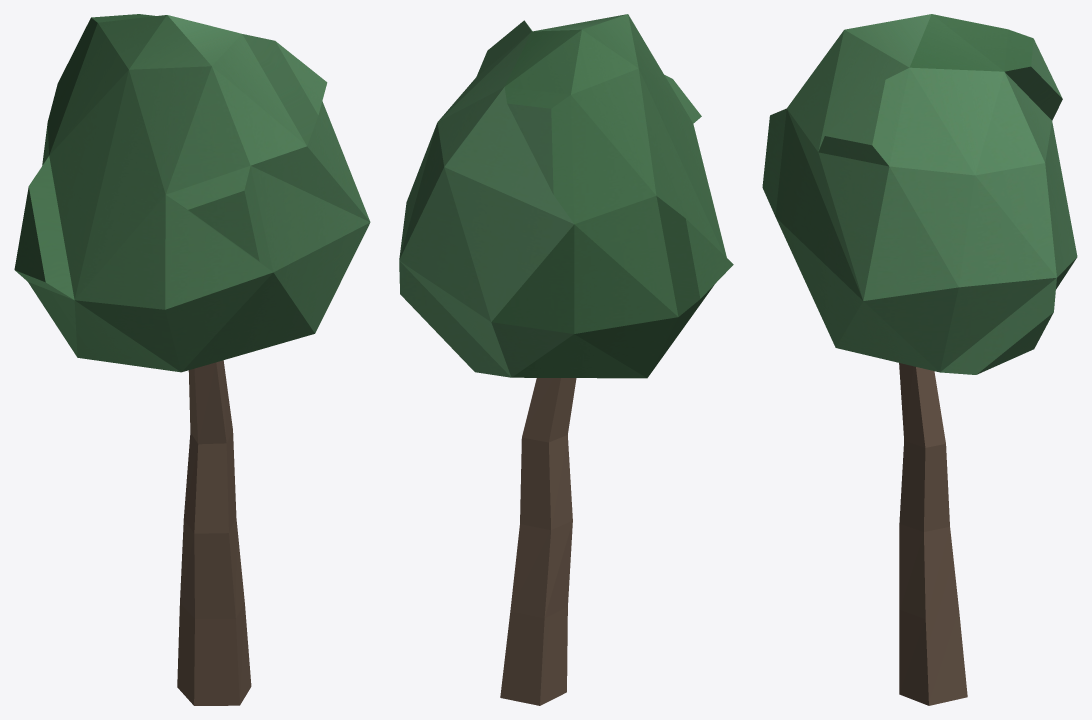
Rendered from arbol1.fbx.
3 views of the same model, side by side, from view 1: azimuth 30°, elevation 25°; view 2: azimuth 150°, elevation 25°; view 3: azimuth 270°, elevation 25° (orthographic). The views are drawn at different scales.
Parts seen in each view (by area): view 1: tree3.007; view 2: tree3.007; view 3: tree3.007.
Part boxes in pixels (left/top/right/bottom): tree3.007: left=14, top=14, right=370, bottom=705; tree3.007: left=399, top=14, right=733, bottom=705; tree3.007: left=762, top=14, right=1077, bottom=705.
Bounding box in the file's own units: 744 × 1606 × 700.
1 material, 1 textured.
